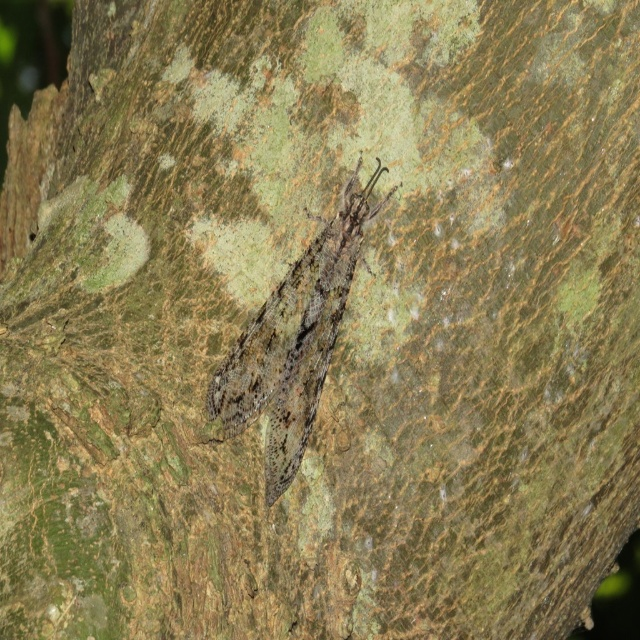Moths and butterflies: (200, 154, 405, 508)
